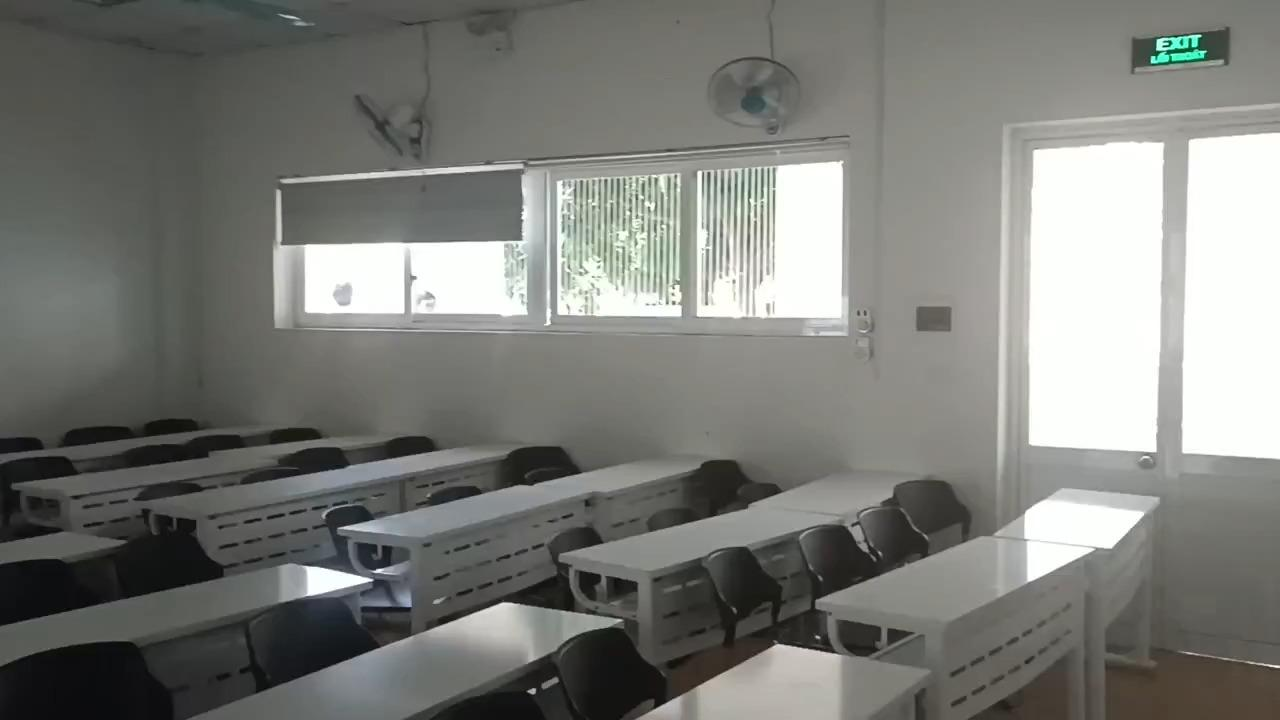chair: (4, 647, 177, 714), (547, 629, 674, 716), (245, 601, 383, 675), (705, 549, 790, 642), (115, 534, 227, 595), (890, 476, 975, 547), (1, 556, 90, 621), (792, 523, 872, 594), (849, 509, 929, 574), (698, 457, 753, 513), (502, 445, 585, 482), (282, 444, 353, 476), (548, 525, 608, 556), (4, 458, 71, 485), (141, 481, 207, 507), (378, 437, 436, 466), (118, 443, 187, 465), (187, 436, 249, 460), (60, 427, 129, 448), (645, 507, 703, 531), (321, 508, 376, 531), (238, 468, 300, 486), (261, 427, 318, 446), (142, 418, 204, 435), (525, 467, 570, 490), (735, 482, 777, 505), (3, 433, 43, 456), (431, 486, 475, 504)
fan: (341, 77, 437, 166), (708, 62, 800, 131)
table: (195, 602, 625, 719), (819, 540, 1085, 719), (558, 508, 843, 644), (1002, 482, 1166, 710), (0, 563, 370, 659), (334, 486, 588, 611), (635, 644, 934, 719), (136, 464, 405, 518), (540, 450, 699, 538), (21, 456, 283, 497), (757, 466, 933, 524), (0, 435, 184, 469), (363, 439, 518, 477), (235, 435, 393, 462), (0, 531, 116, 555), (154, 424, 277, 445)
